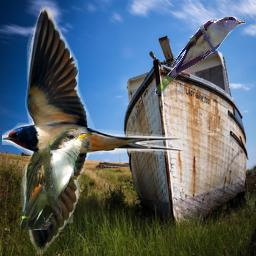Cuckoo: (20, 128, 93, 230), (155, 16, 246, 95)
Swallow: (2, 6, 186, 256)
